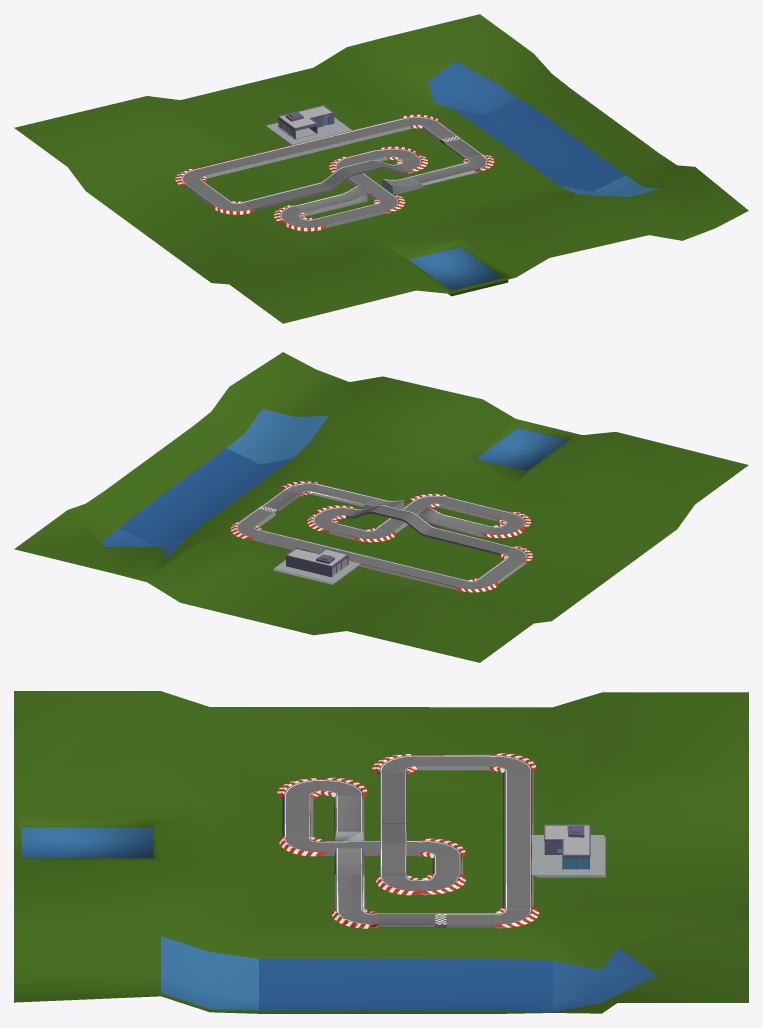
File: pista2.glb
The picture shows the model from 3 angles, top to bottom: view 1: azimuth 30°, elevation 25°; view 2: azimuth 150°, elevation 25°; view 3: azimuth 270°, elevation 25°; orthographic projection. The views are drawn at different scales.
Bounding box in the file's own units: 524 × 41.49 × 524.
1 material, 1 textured.
